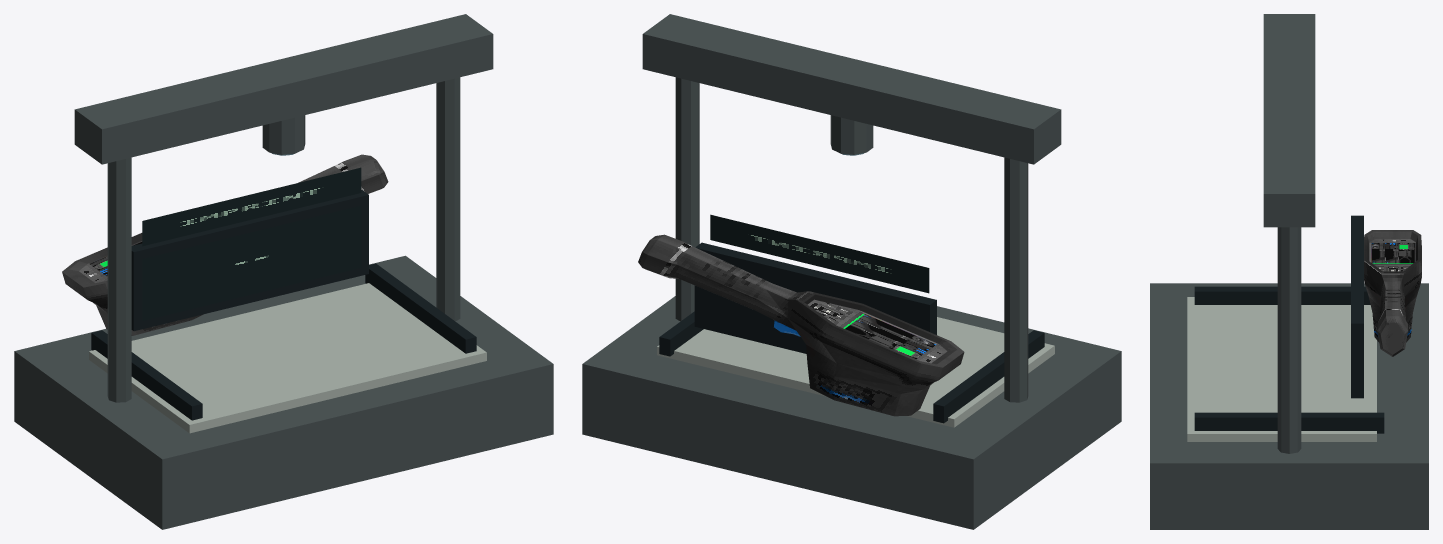
Rendered from blender_object_imprint_scanner_3.glb.
3 views of the same model, side by side, from view 1: azimuth 30°, elevation 25°; view 2: azimuth 150°, elevation 25°; view 3: azimuth 270°, elevation 25° (orthographic). The views are drawn at different scales.
Parts seen in each view (by area): view 1: blender_object_imprint_scanner_3; view 2: blender_object_imprint_scanner_3; view 3: blender_object_imprint_scanner_3.
Part boxes in pixels (x1,y1,x2,y2): blender_object_imprint_scanner_3: [14, 14, 553, 529]; blender_object_imprint_scanner_3: [582, 14, 1121, 529]; blender_object_imprint_scanner_3: [1150, 14, 1428, 529].
Size of the model in its own units: 0.29 by 0.2525 by 0.19.
Materials: 1 (1 with a texture image).
